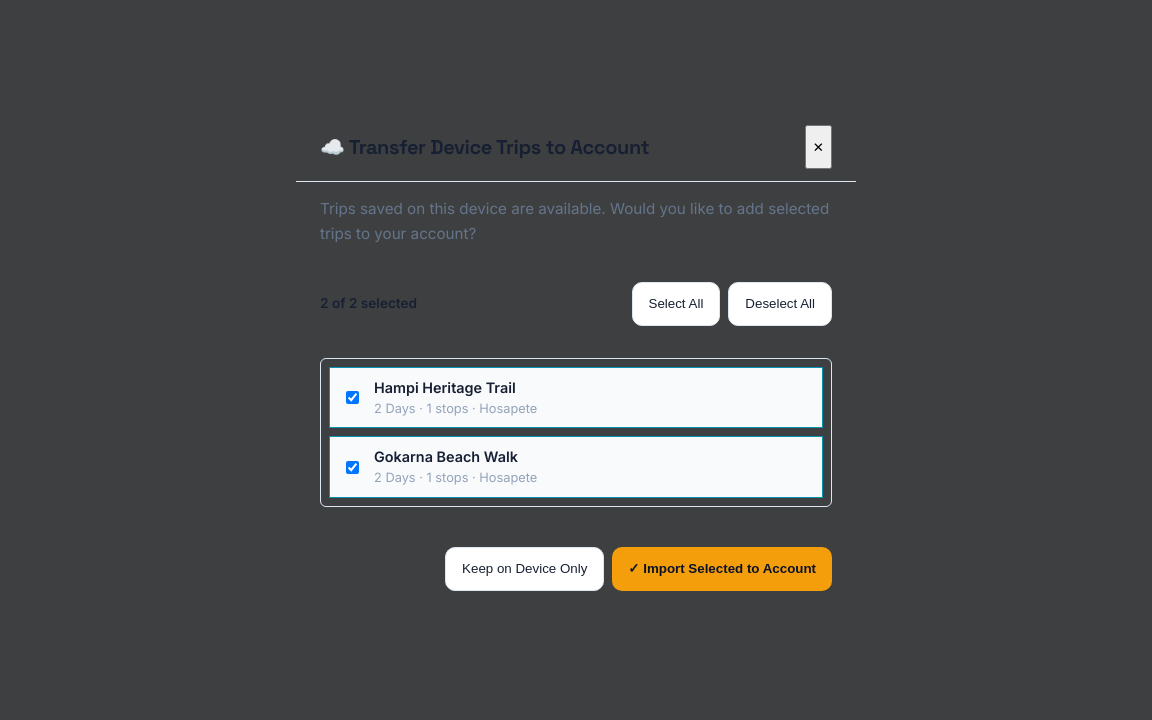
Test: GuestTransferModal › renders available unlinked trips and allows select all / deselect all
Check: the text "Hampi Heritage Trail" is shown, box 374,379 -> 516,396
Check: the text "Gokarna Beach Walk" is shown, box 374,448 -> 518,465
Click the button with test id "deselect-all-btn". click: [780, 304]
box: 728,282 -> 832,326
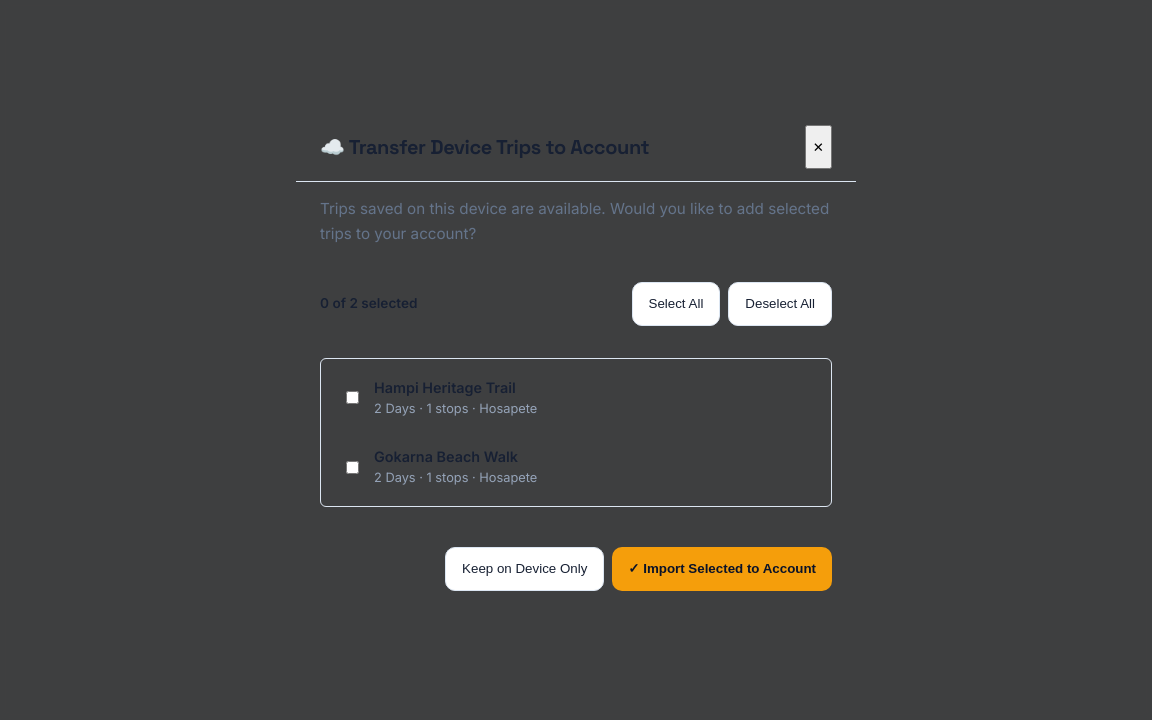
Check: the text "0 of 2 selected" is shown, box 320,293 -> 418,315
Click the button with test id "select-all-btn". click: [676, 304]
box: 632,282 -> 720,326
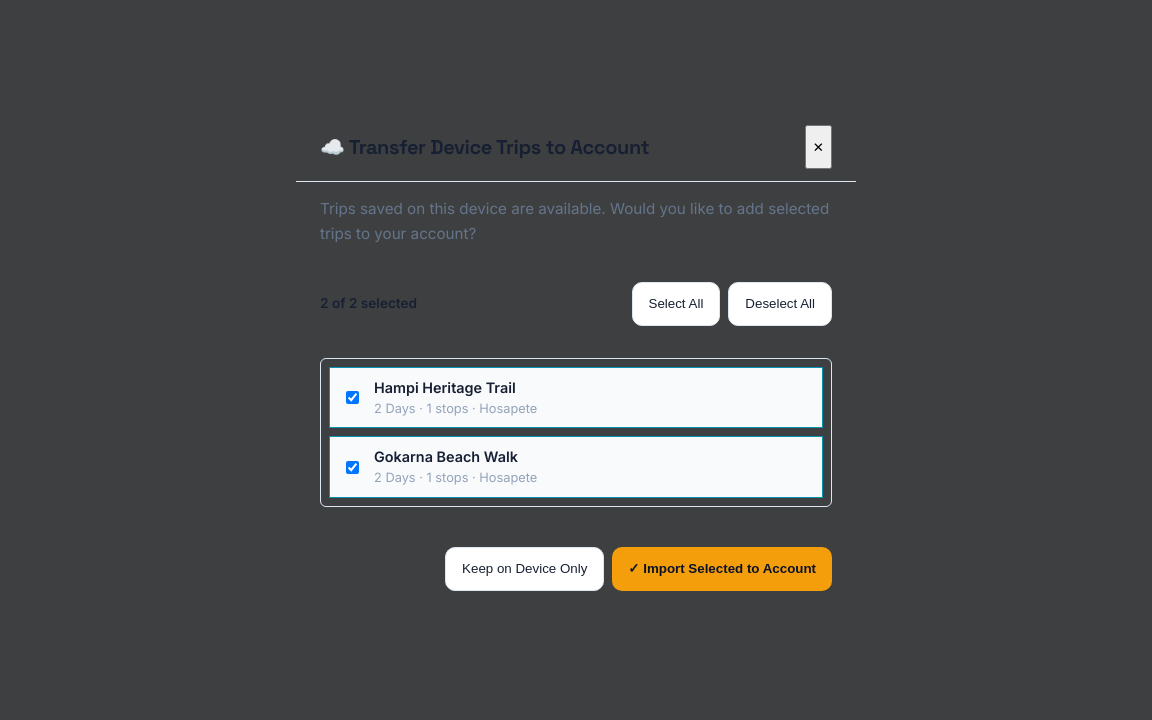
Check: the text "2 of 2 selected" is shown, box 320,293 -> 417,315
